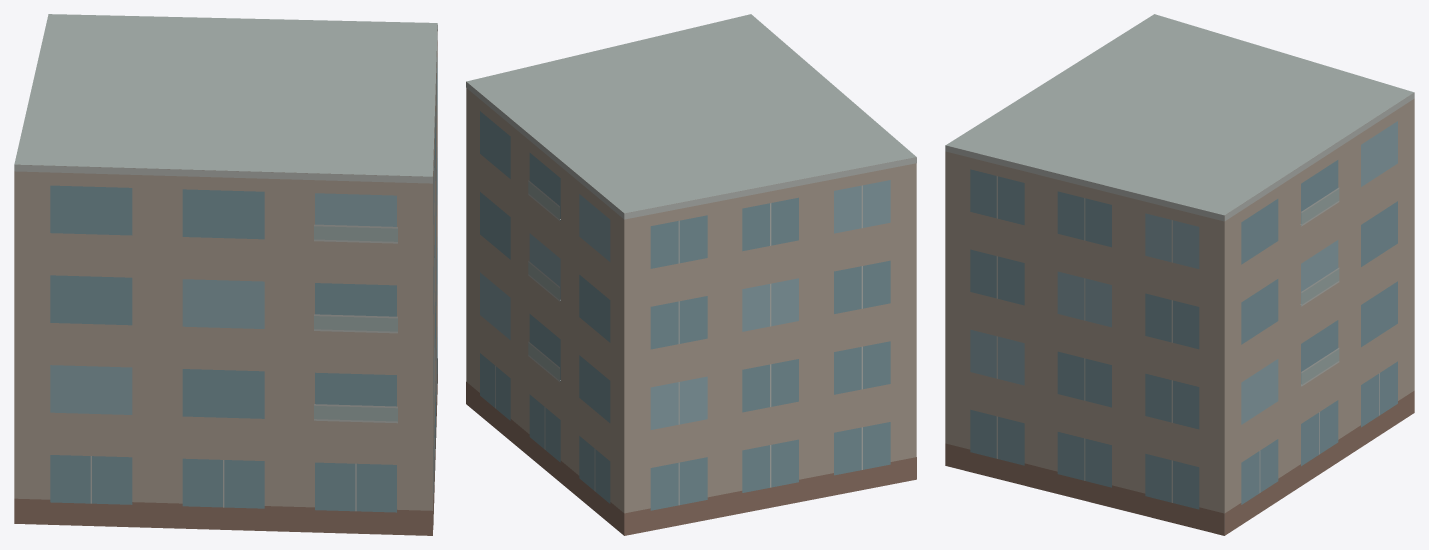
The model's file is survey-upis-32982277.glb.
3 views of the same model, side by side, from view 1: azimuth 30°, elevation 25°; view 2: azimuth 150°, elevation 25°; view 3: azimuth 270°, elevation 25° (orthographic). The views are drawn at different scales.
Parts seen in each view (by area): view 1: survey-upis-32982277.tmp; view 2: survey-upis-32982277.tmp; view 3: survey-upis-32982277.tmp.
Part boxes in pixels (x1,y1,x2,y2): survey-upis-32982277.tmp: (14,14,437,535); survey-upis-32982277.tmp: (466,14,916,535); survey-upis-32982277.tmp: (945,14,1414,535).
Bounding box in the file's own units: 17.27 × 12.8 × 16.99.
